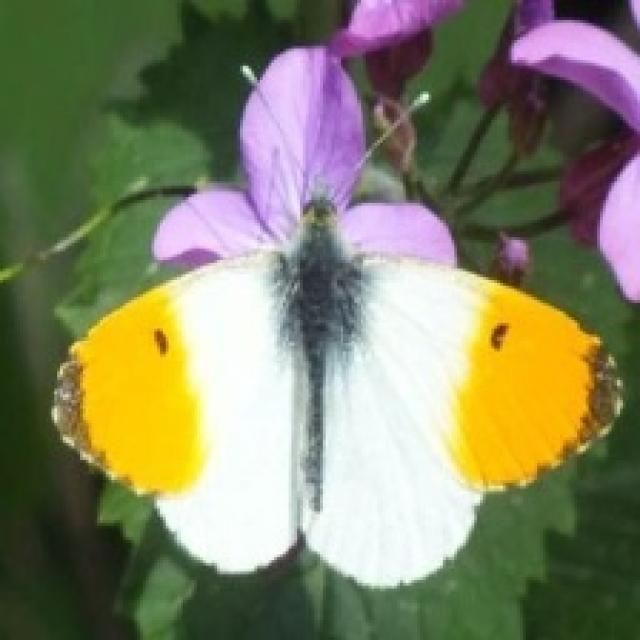butterfly: (48, 43, 623, 588)
